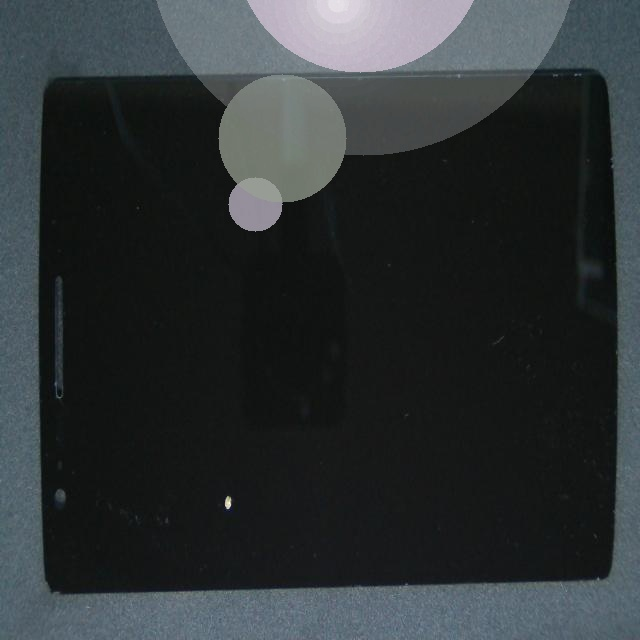stain: (105, 226, 326, 640)
